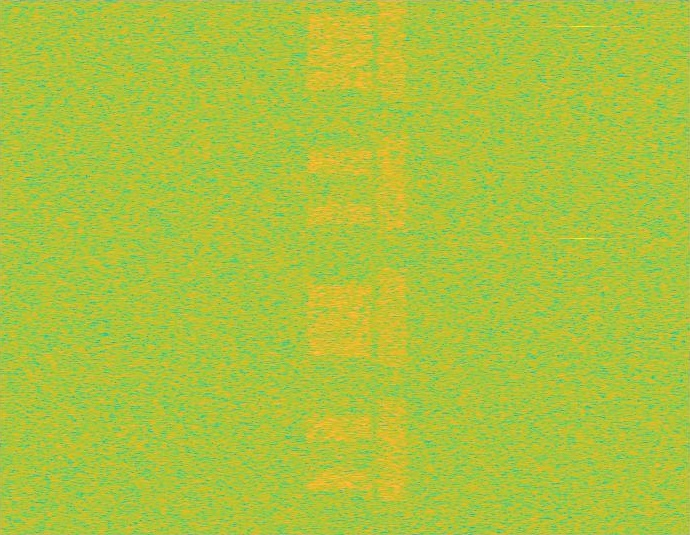5G: (375, 0, 410, 534)
LTE: (305, 0, 374, 534)
Radar: (575, 0, 589, 534)
